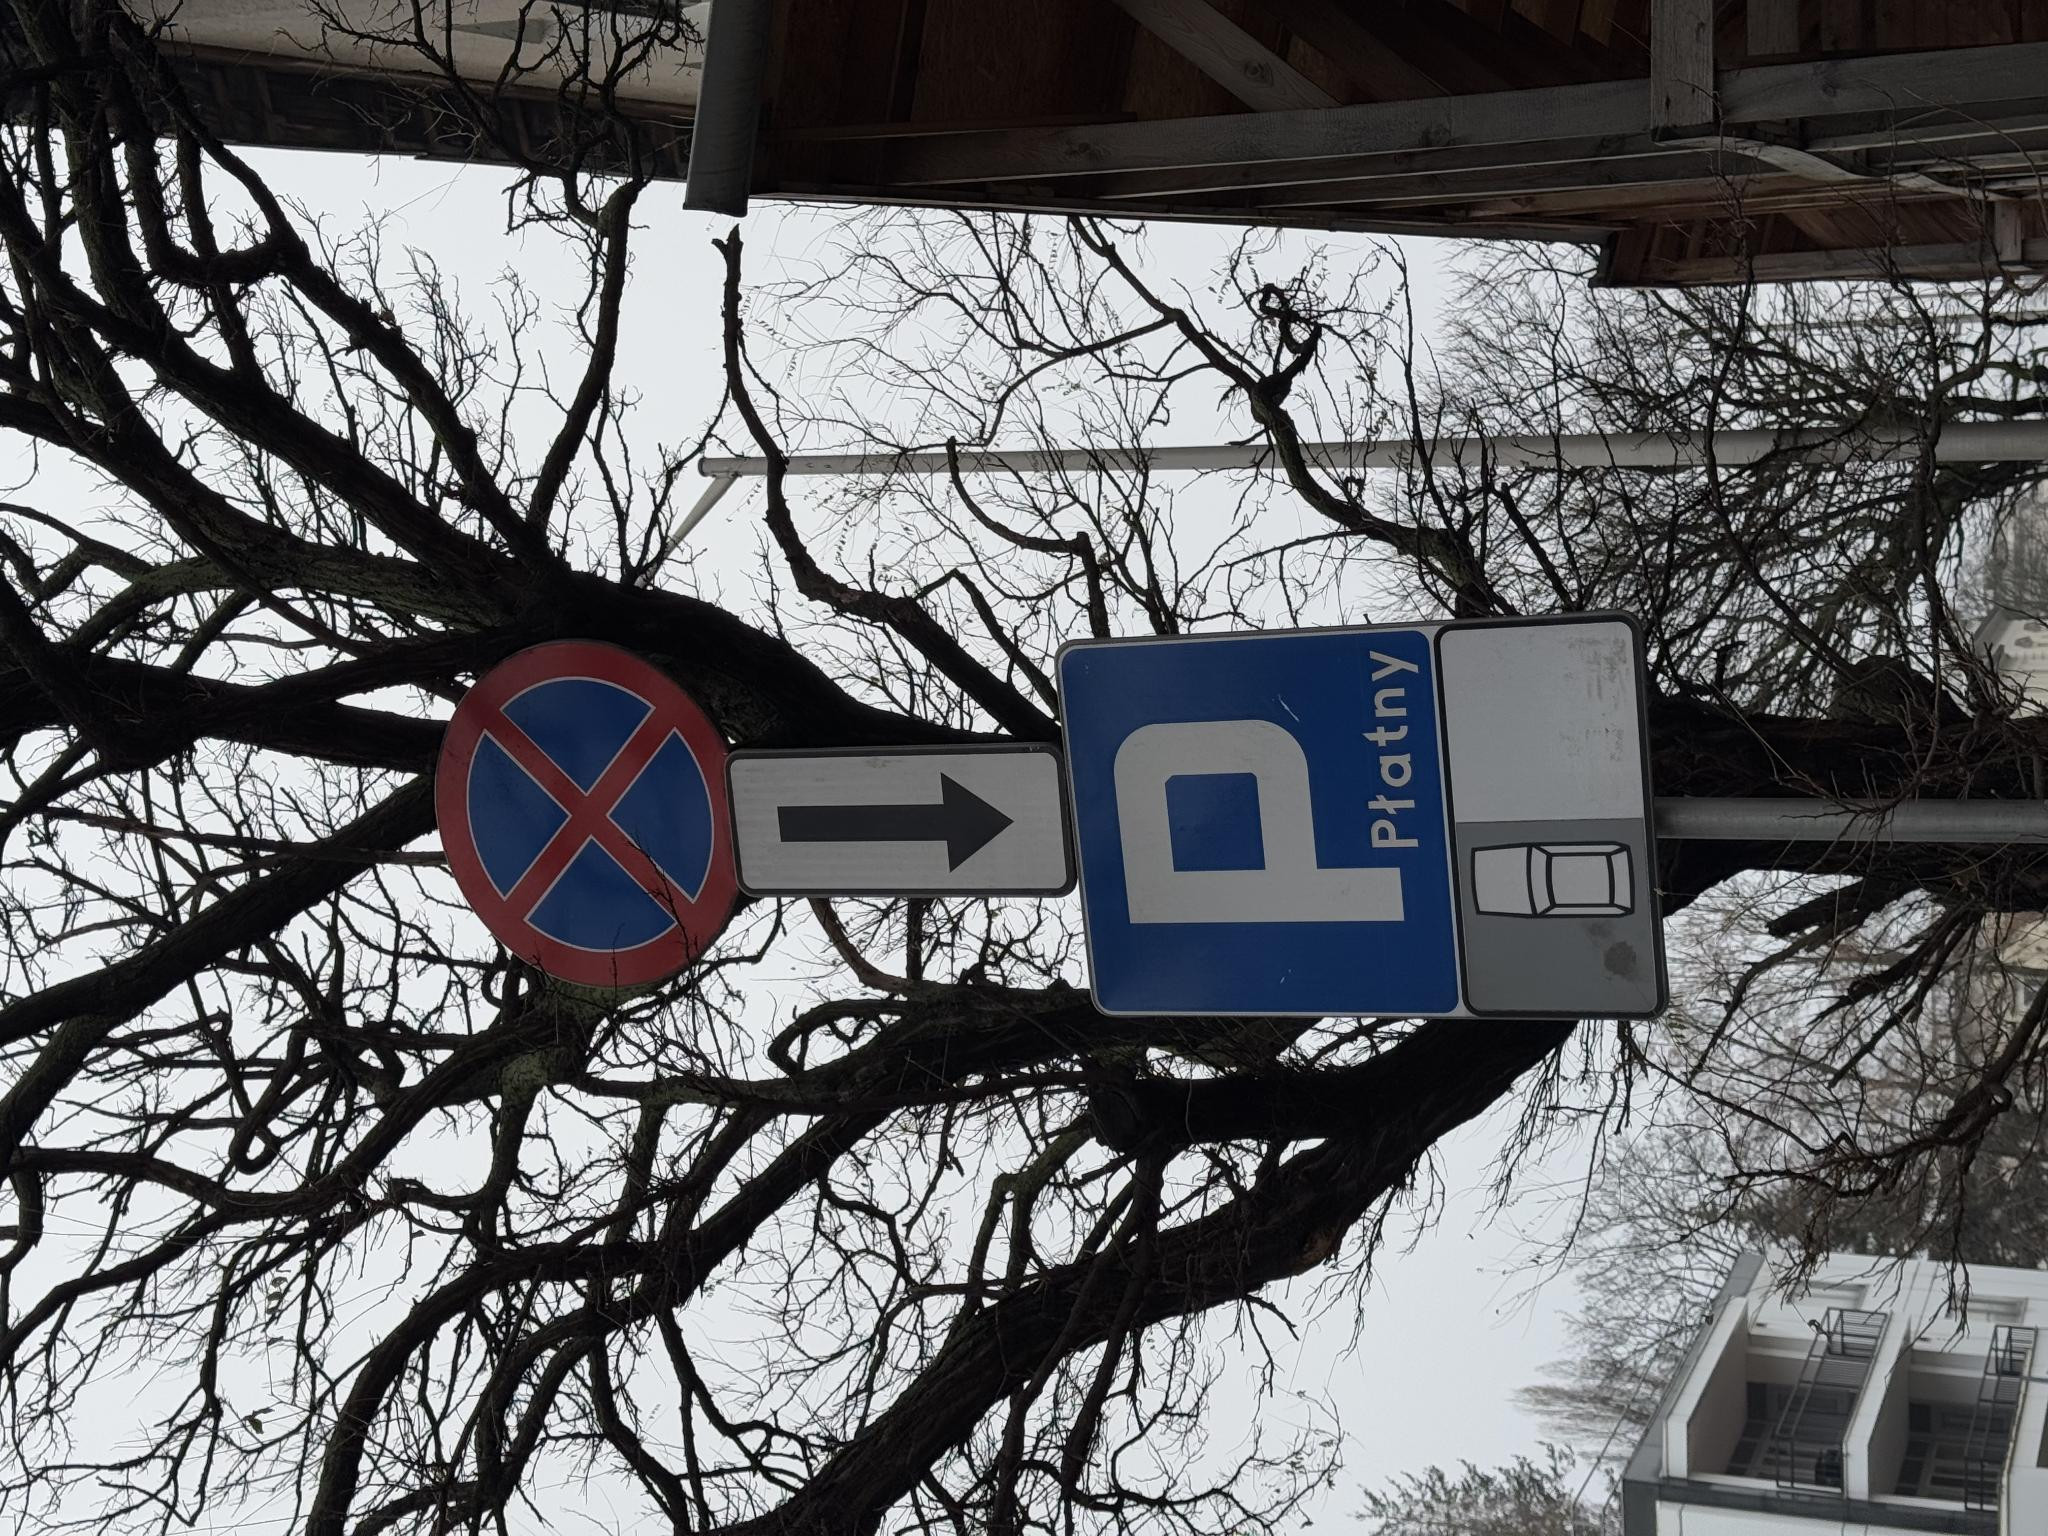information: (522, 1060, 910, 1462)
other: (637, 729, 787, 1071), (522, 1450, 916, 1536)
prohibitory: (540, 429, 901, 739)
